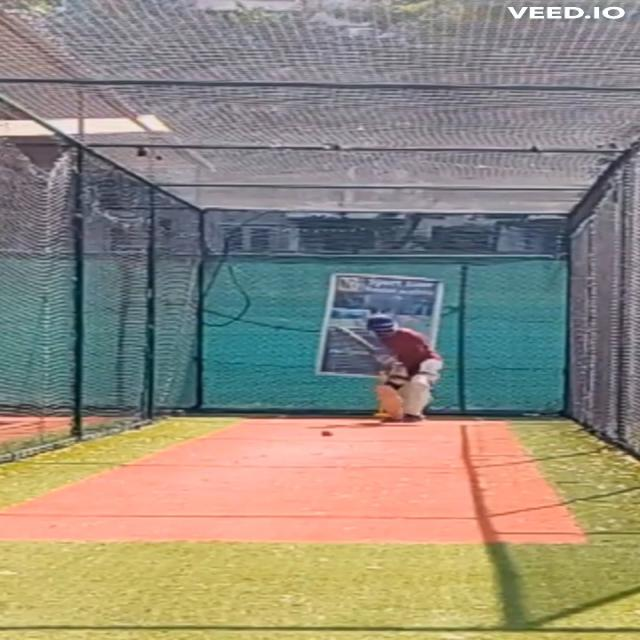ball: (318, 429, 334, 438)
